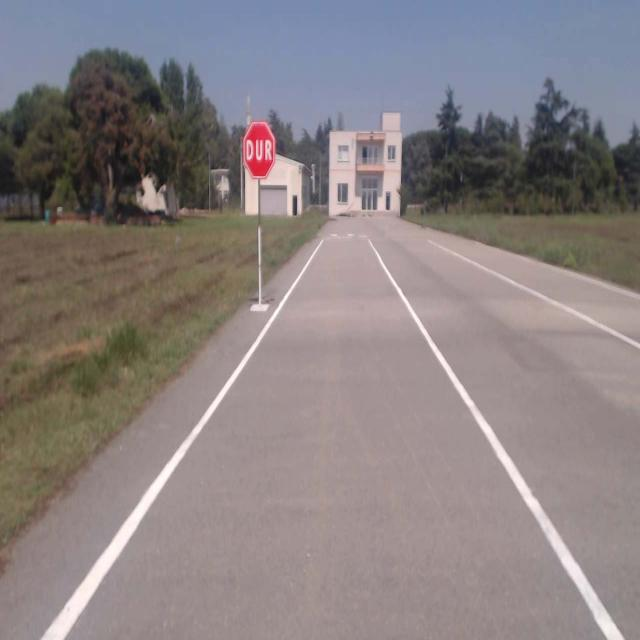dur: (242, 122, 275, 178)
